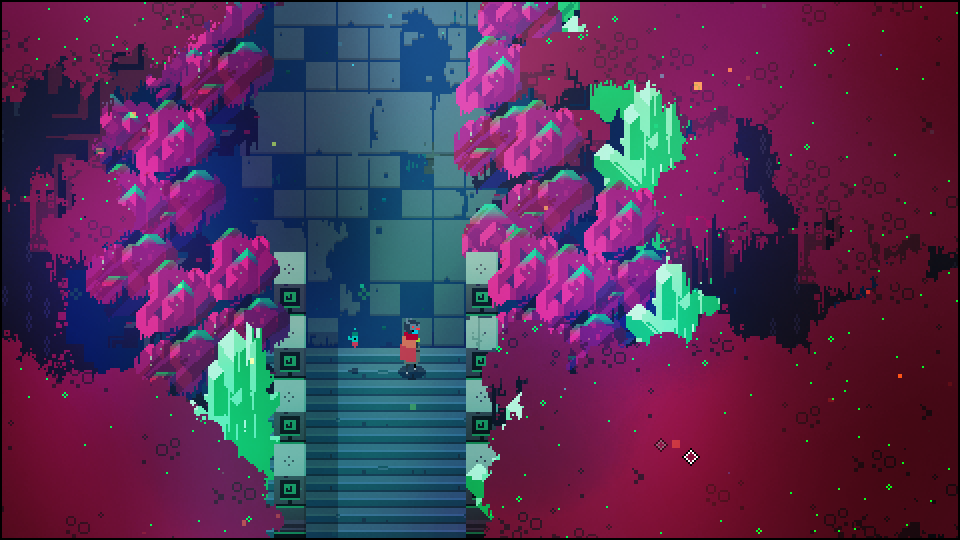player: (396, 312, 428, 378)
